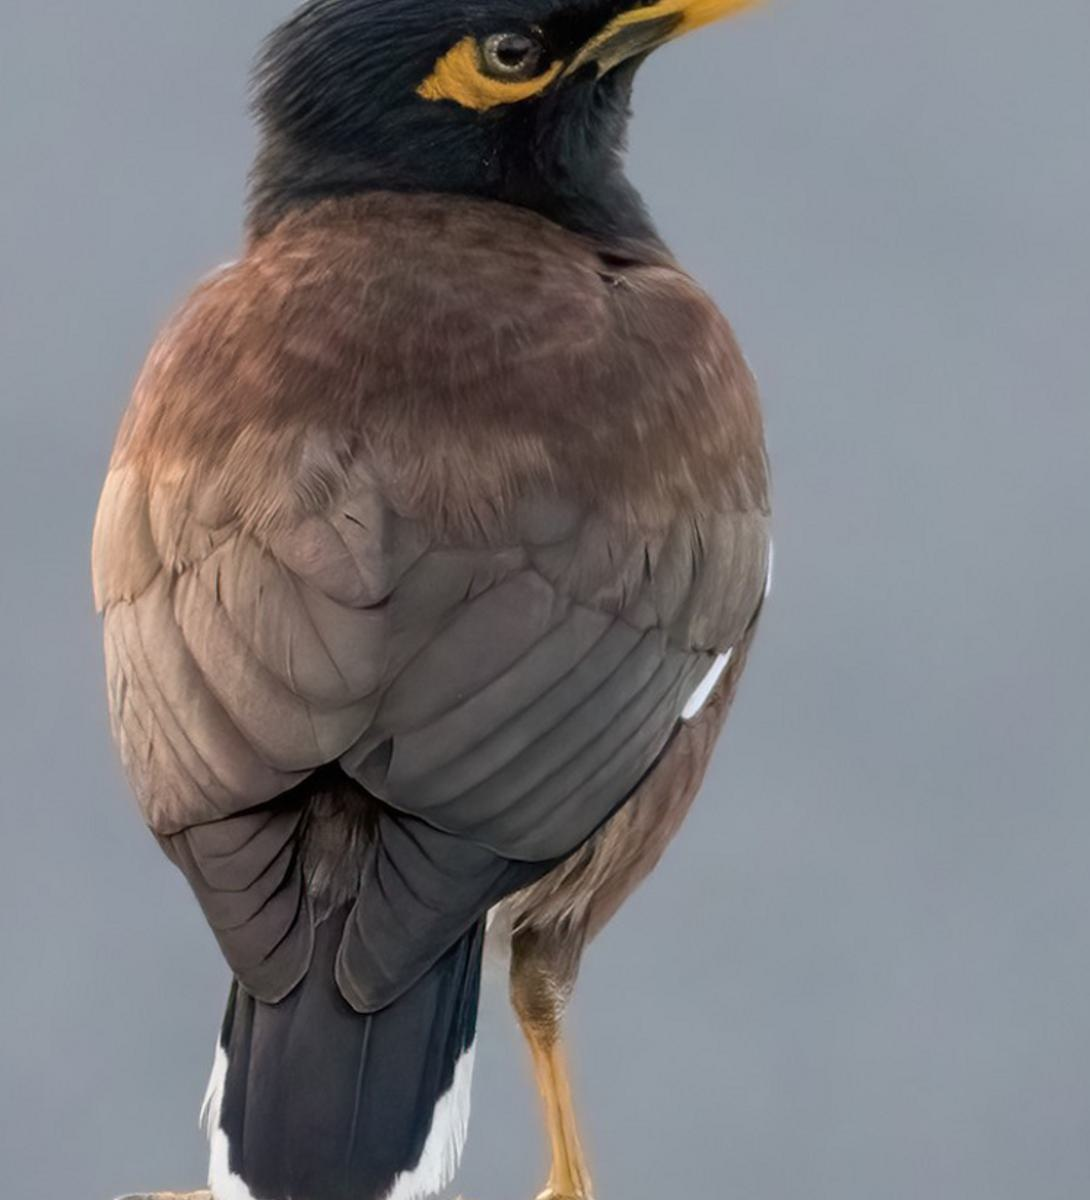myna: (159, 1, 801, 1128)
